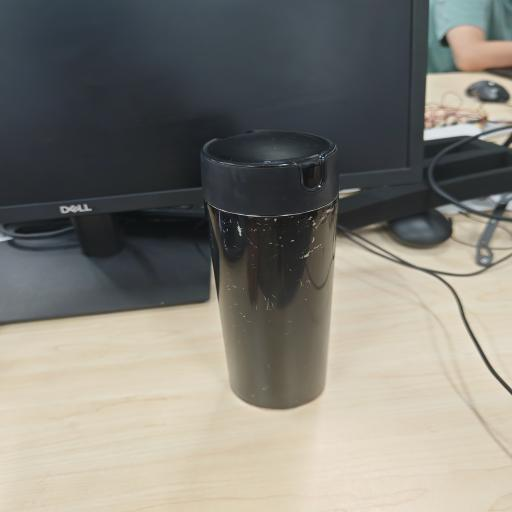mouse: (388, 209, 452, 248), (466, 80, 510, 102)
